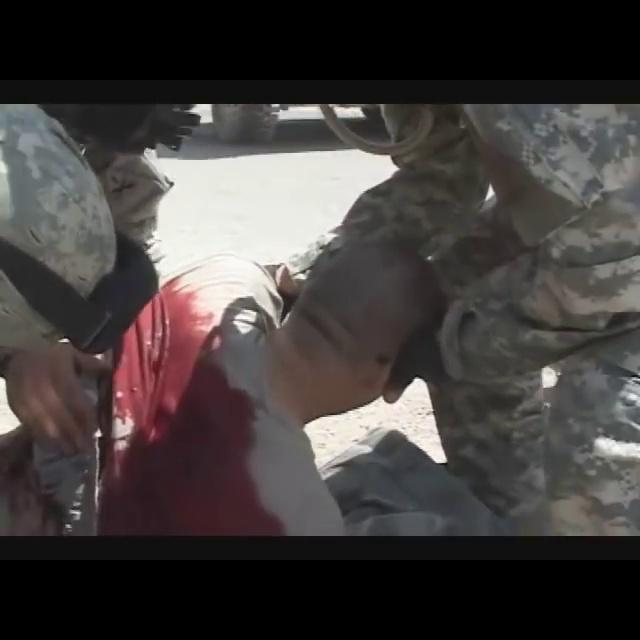blood: (100, 277, 282, 536)
